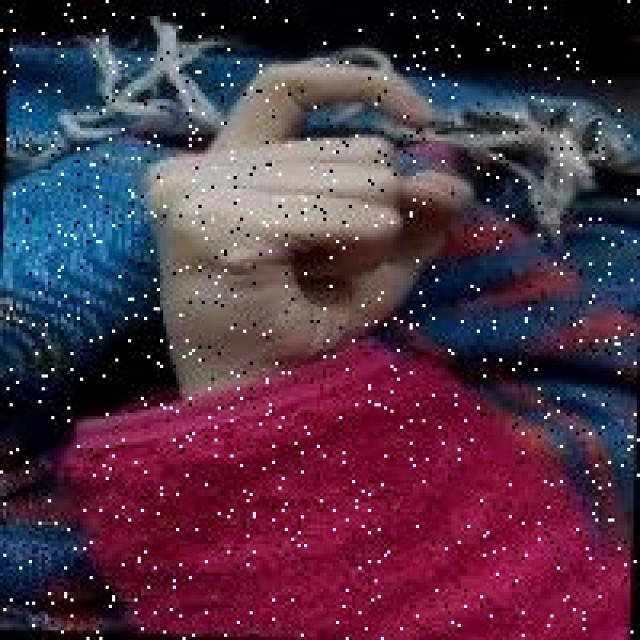X: (130, 51, 482, 371)
